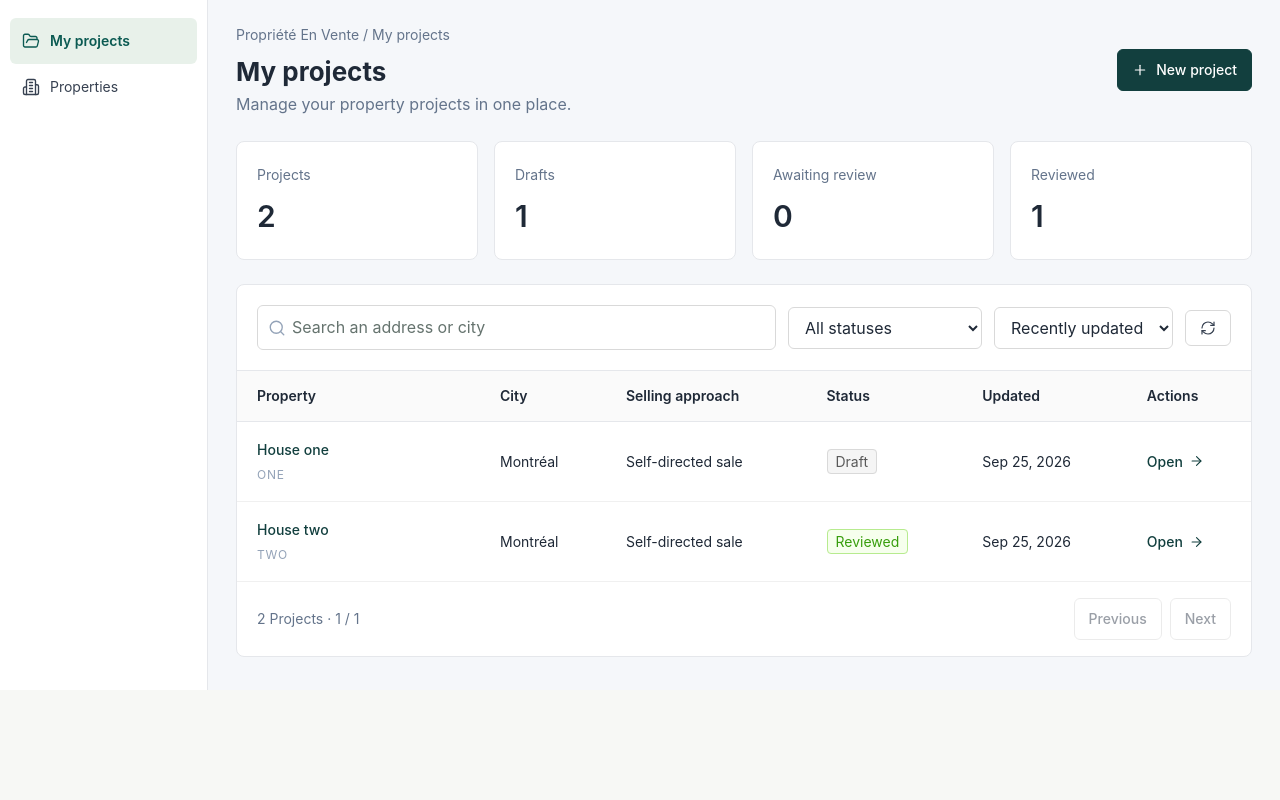
lists separate project links and filters by status without creating a project
This screenshot has width=1280, height=800.
Expected: the link to "#projects/one/overview" is shown, [257,441,329,458]
Select "Reviewed" in the dropdown named "Status" at [885, 328], box [788,307,982,349]
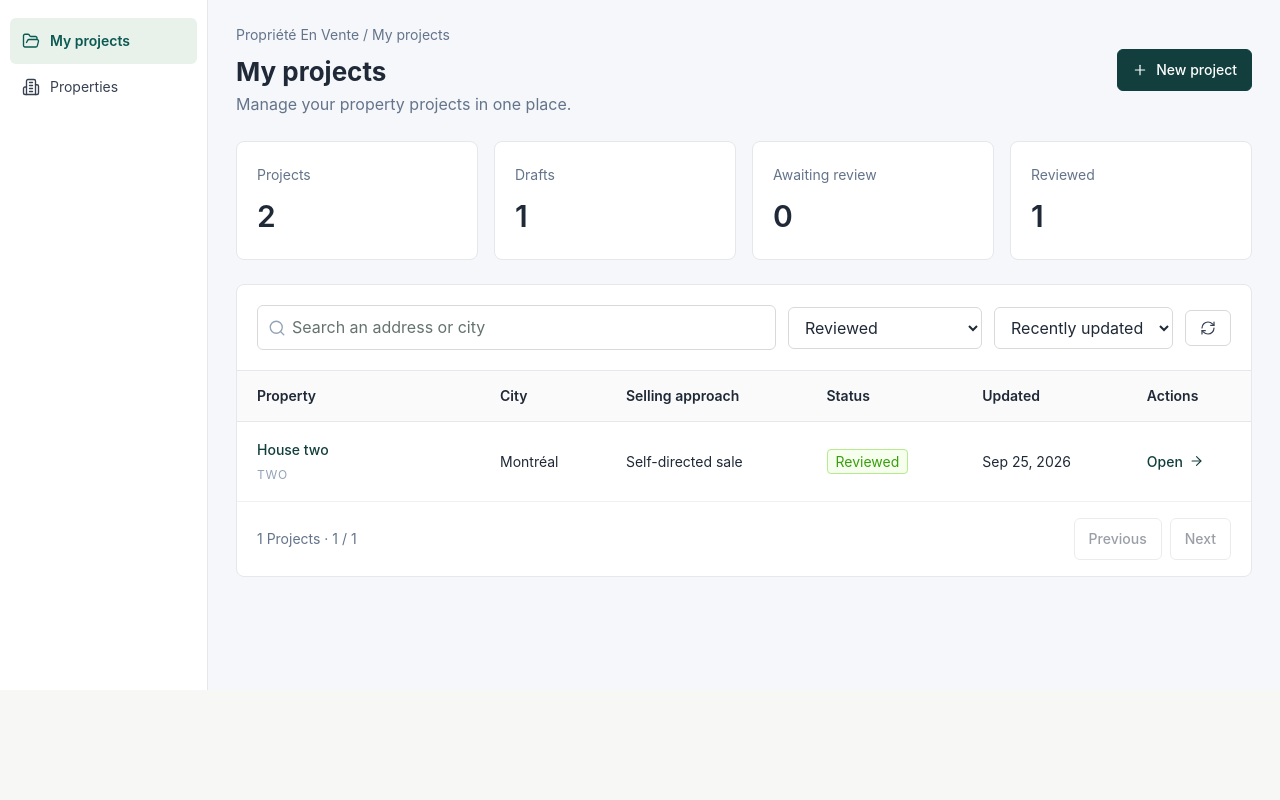
Expected: the link to "#projects/two/overview" is shown, [257,441,329,458]
Result: the link to "#projects/one/overview" is gone
